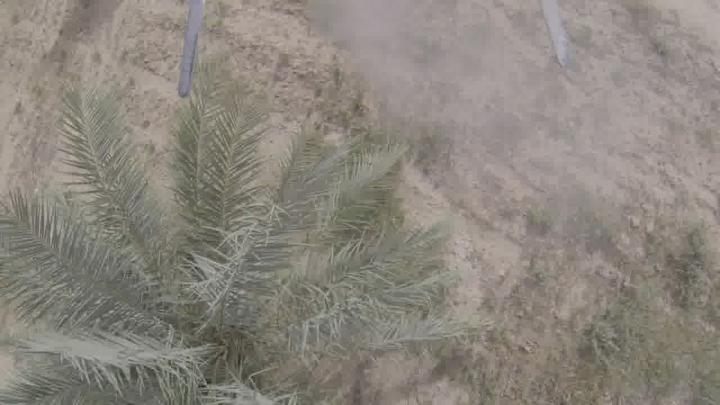Date-Palm-Crown: (31, 149, 379, 404)
